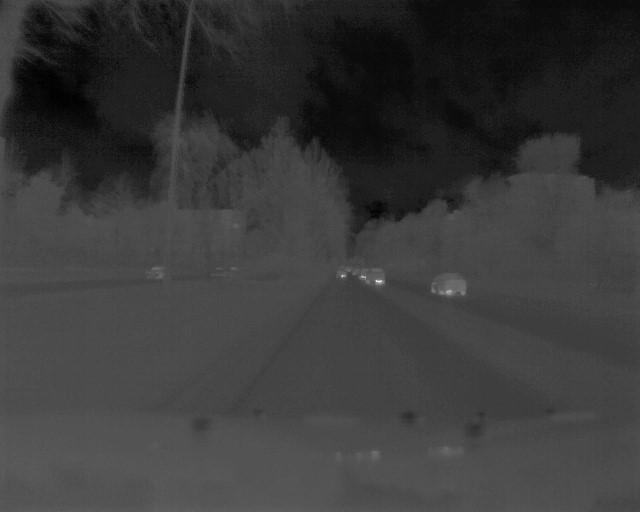person: (429, 271, 466, 301), (366, 265, 387, 285)
